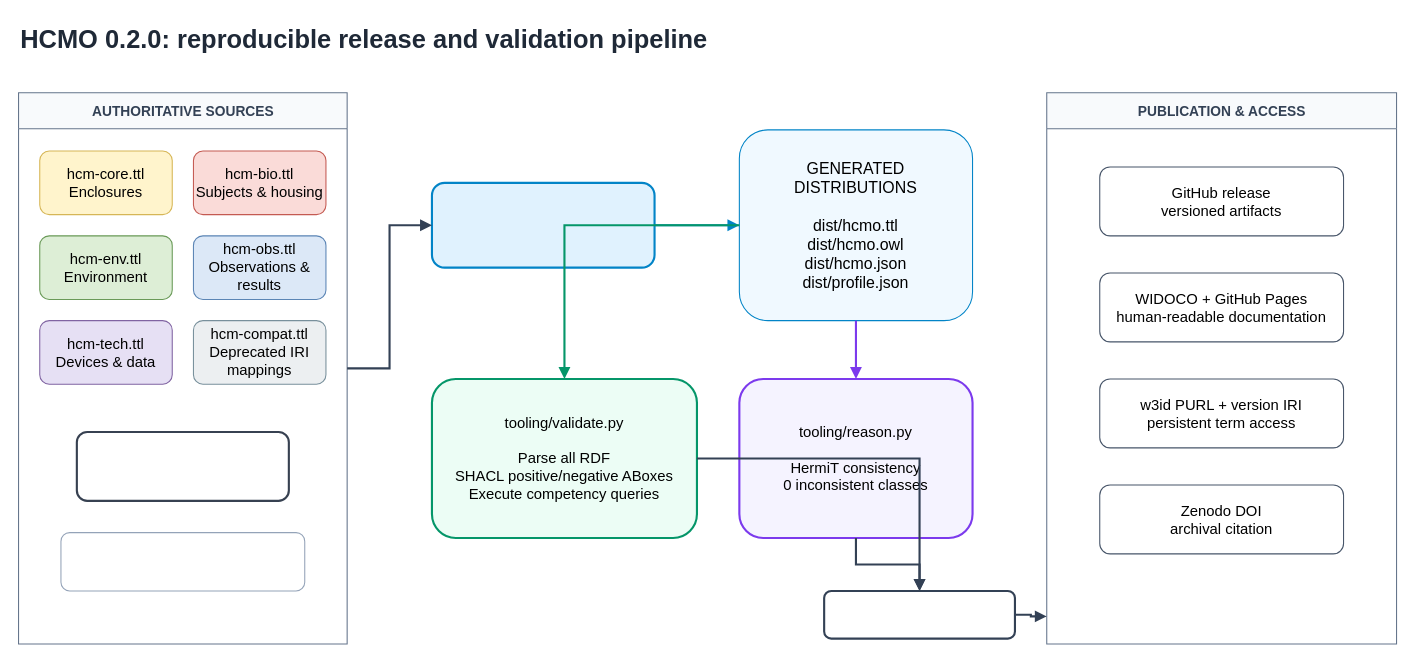
The diagram is 1415 pixels wide and 662 high, and some of its shapes have lost their labels. The centre of each missing label's shape, as x and y in pixels:
"context.jsonld shapes/ queries/ examples/" belongs at [182,561].
"hcmo.yaml Stable release contract" belongs at [182,465].
"QUALITY GATES PASS" belongs at [919,614].
"tooling/build.py merge + canonicalise" belongs at [542,224].
